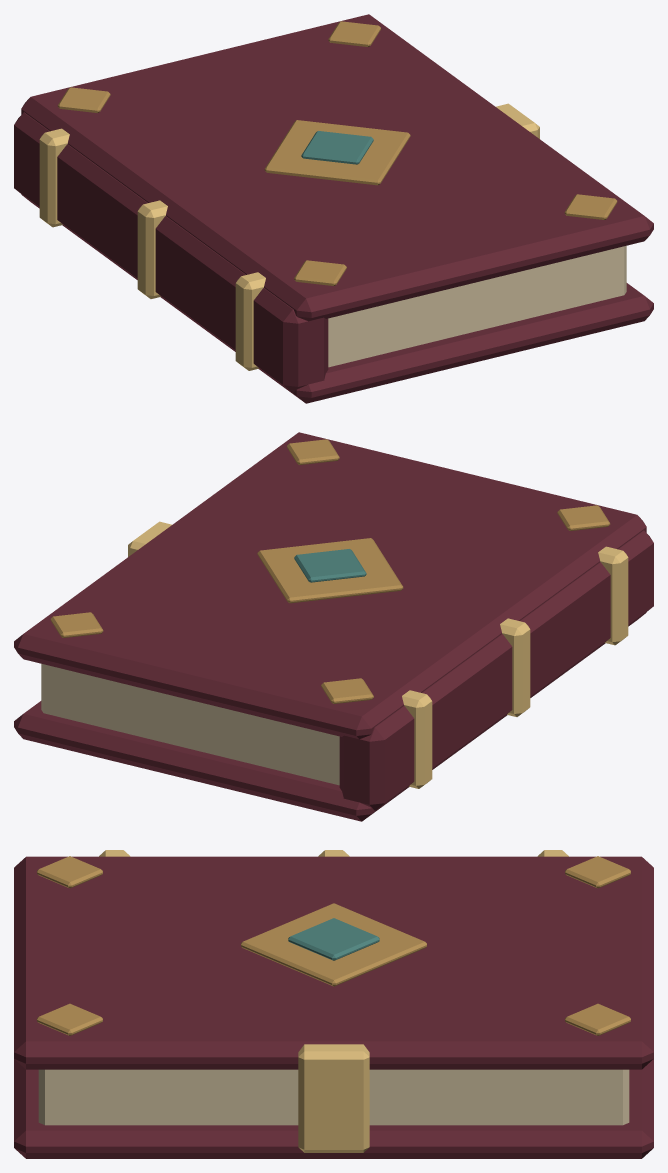
File: wizard_closed_tome.glb
3 renders of one model, top to bottom at view 1: azimuth 30°, elevation 25°; view 2: azimuth 150°, elevation 25°; view 3: azimuth 270°, elevation 25°, orthographic. The views are drawn at different scales.
Parts seen in each view (by area): view 1: wizard_closed_tome_Static; view 2: wizard_closed_tome_Static; view 3: wizard_closed_tome_Static.
Part boxes in pixels (x1,y1,x2,y2): wizard_closed_tome_Static: (14,14,653,403); wizard_closed_tome_Static: (14,432,653,821); wizard_closed_tome_Static: (14,850,653,1158).
Size of the model in its own units: 1.11 by 0.321 by 1.43.
